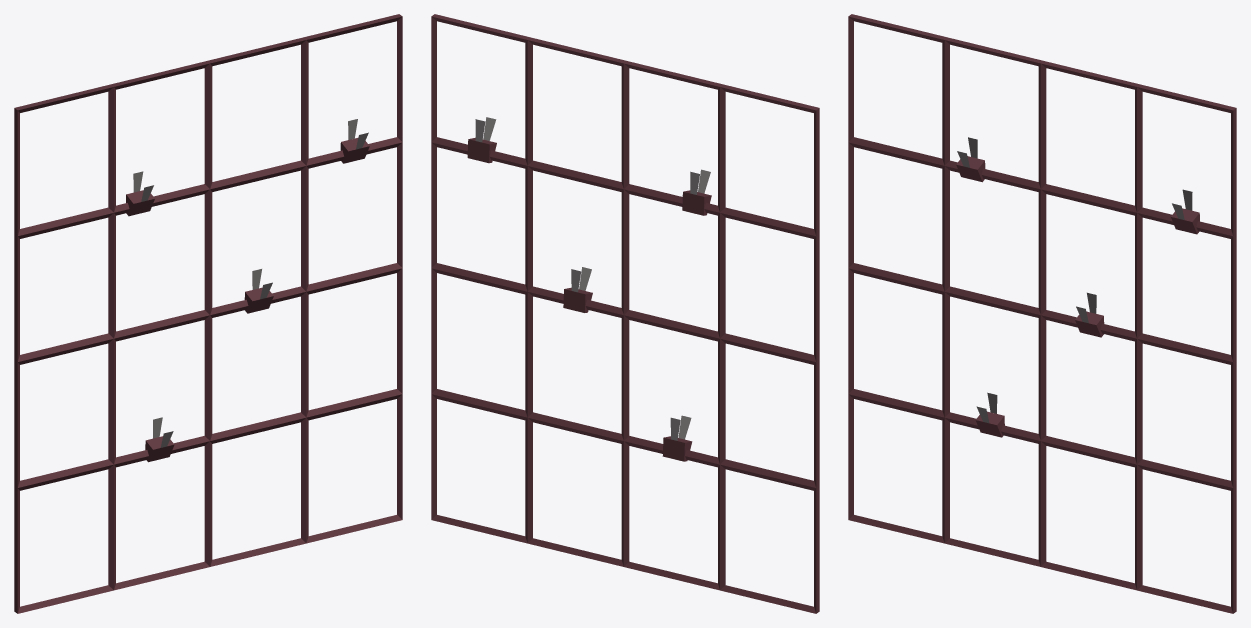
The model's file is furniture-board-wire.glb.
3 renders of one model, left to right at view 1: azimuth 30°, elevation 25°; view 2: azimuth 150°, elevation 25°; view 3: azimuth 330°, elevation 25°, orthographic.
Visible parts, largest first — view 1: board-wire; view 2: board-wire; view 3: board-wire.
Boxes of the visible parts, x1,y1,x2,y2 form: board-wire: [14, 14, 402, 613]; board-wire: [431, 14, 819, 613]; board-wire: [848, 14, 1236, 613].
Size of the model in its own units: 0.6 by 0.75 by 0.0352.
